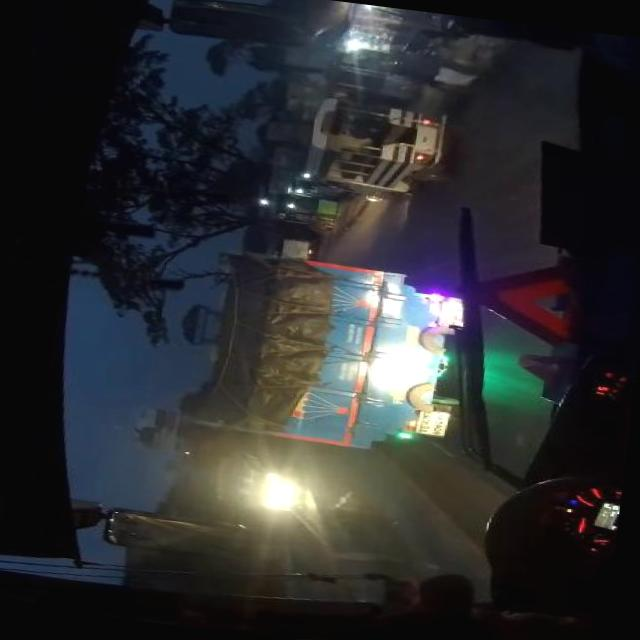bus: (302, 94, 455, 206)
truck: (191, 243, 479, 457)
